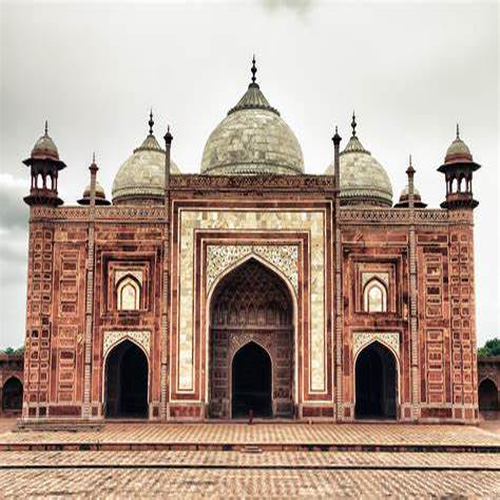Mosque: (12, 60, 485, 434)
